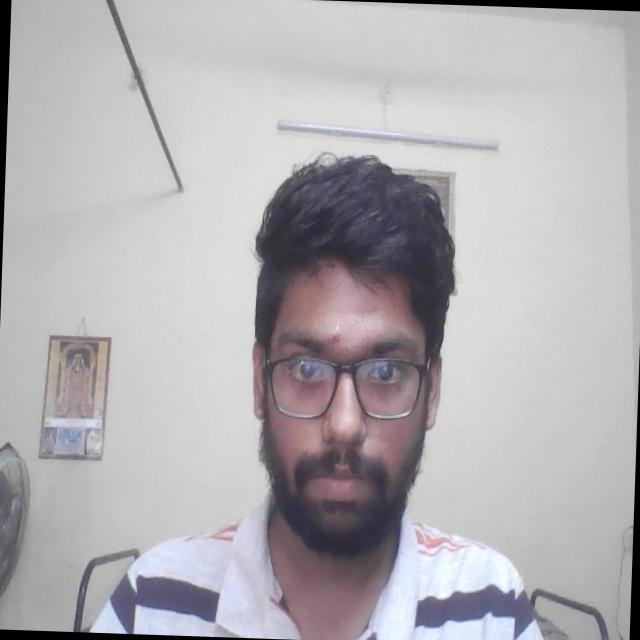Focused: (252, 274, 448, 532)
